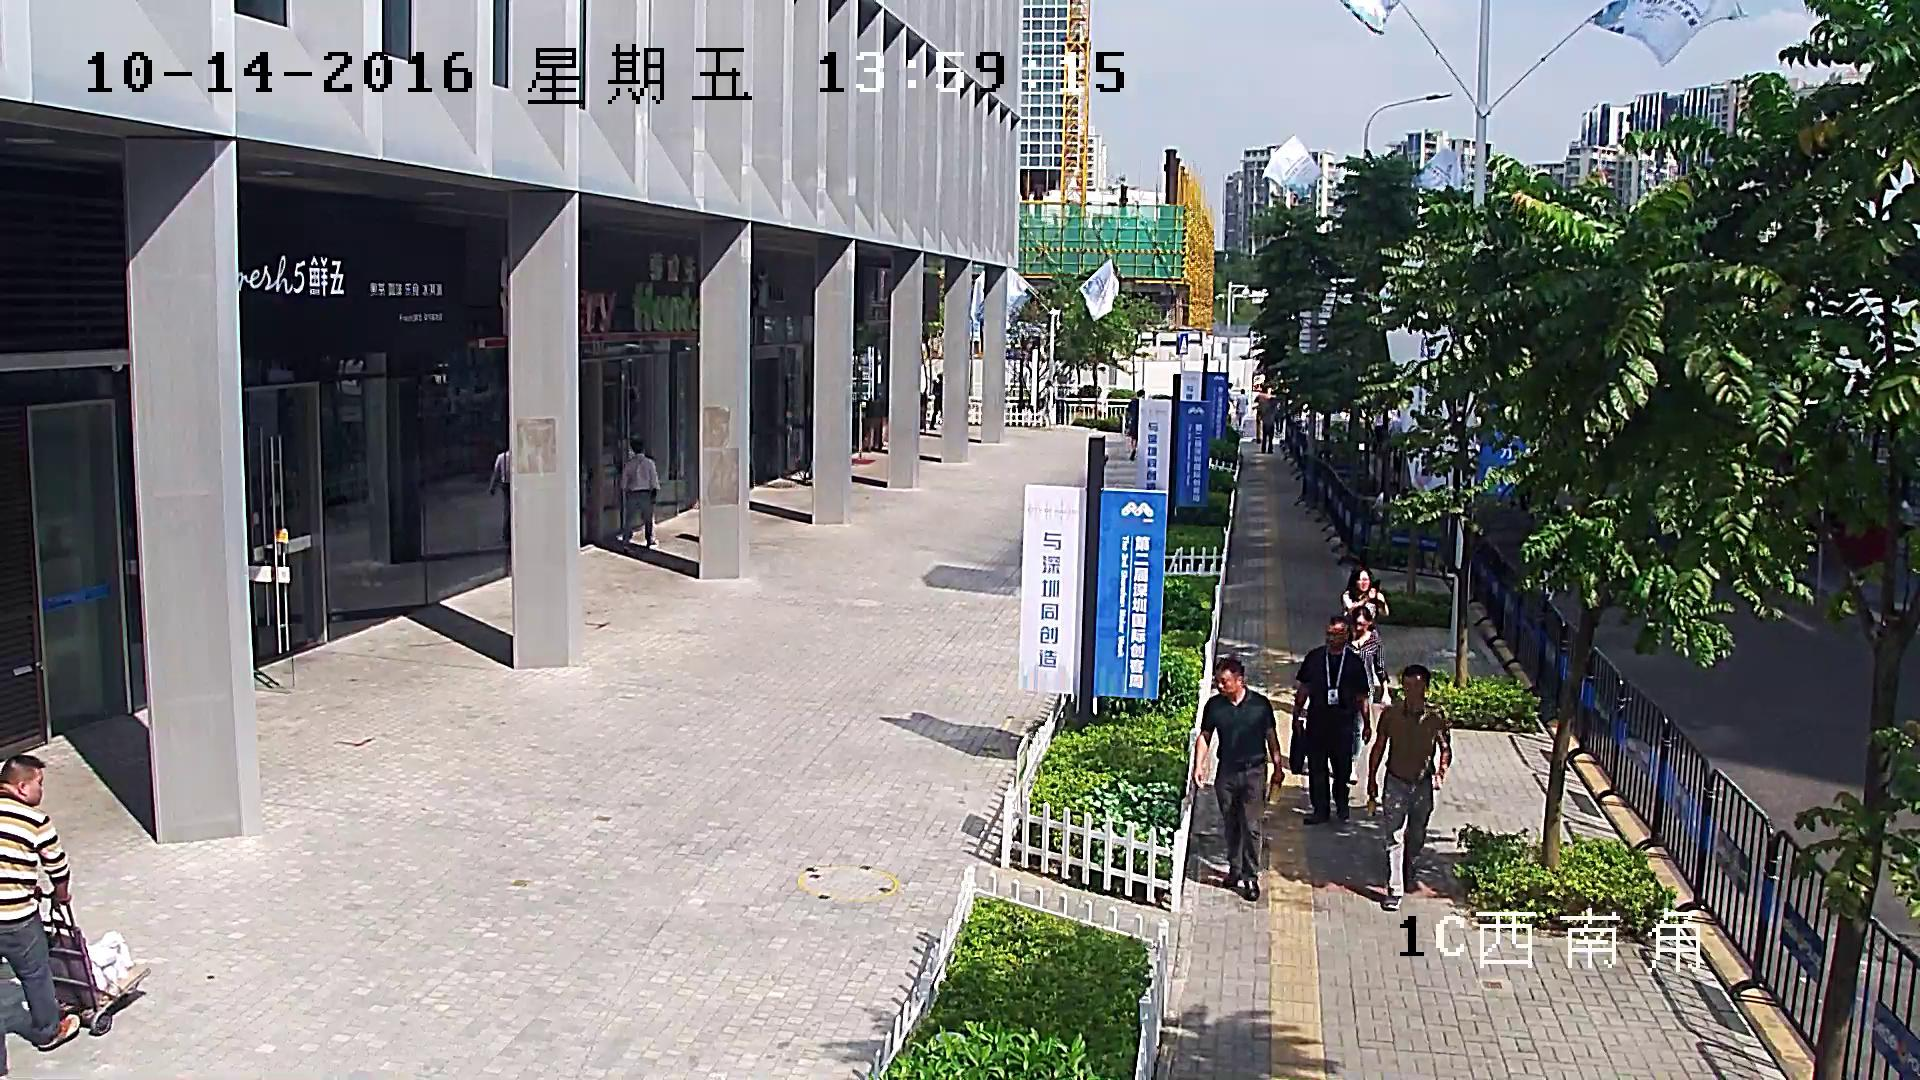person: (0, 754, 149, 1049), (0, 755, 80, 1048), (1194, 657, 1283, 900), (1368, 664, 1451, 910), (1289, 617, 1371, 825), (1344, 606, 1389, 783), (620, 439, 659, 550), (1341, 564, 1388, 641), (488, 449, 510, 542), (1255, 394, 1276, 453), (1126, 389, 1143, 461), (1252, 386, 1271, 442), (930, 373, 944, 430), (1235, 389, 1248, 425)
